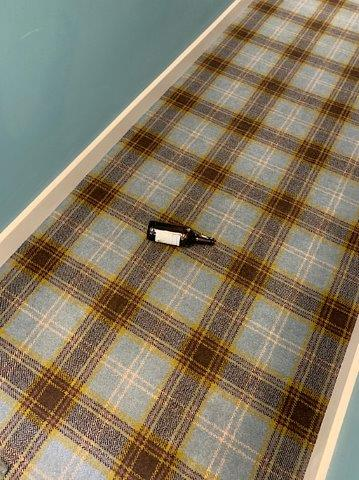botolkaca: (148, 221, 214, 247)
